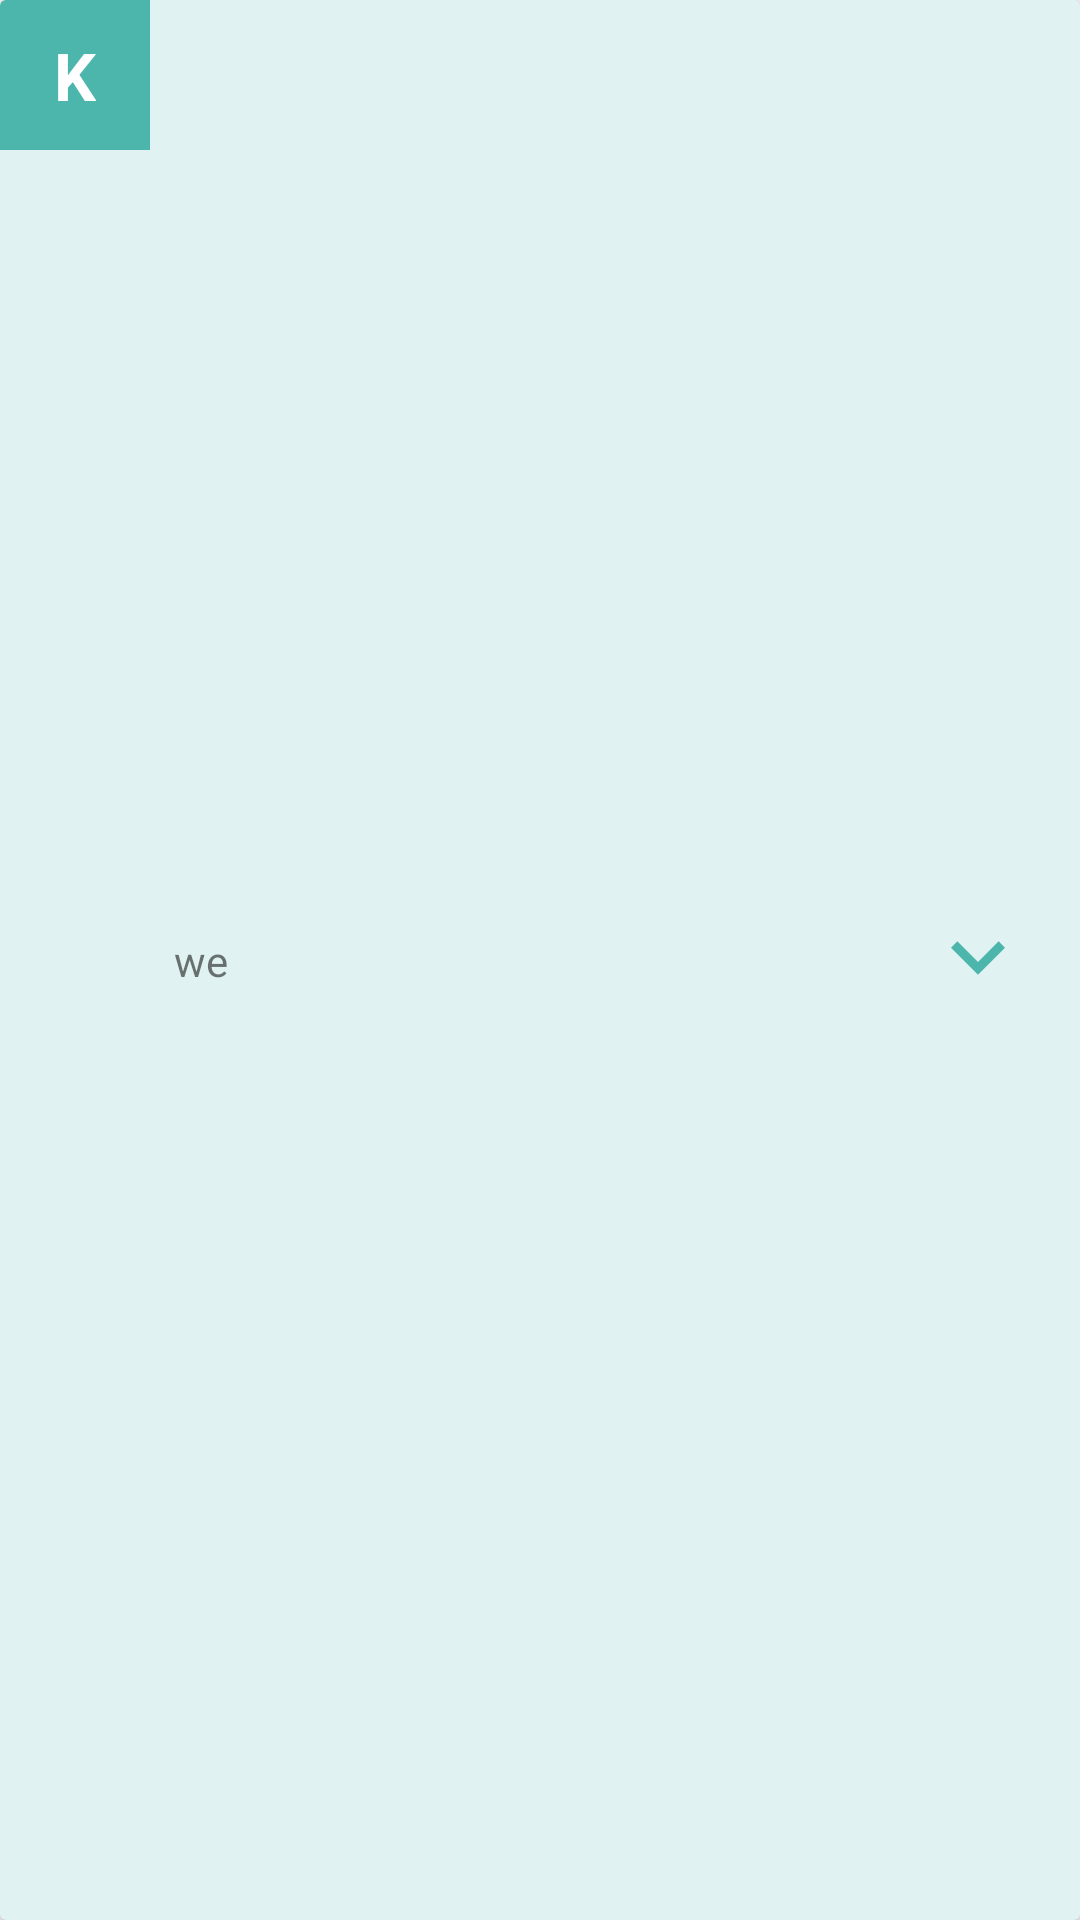

Named icons in this screenshot (1080w x 1920h) and their bounding boxes, (x1, y1, x2, y2):
arrow down: (951, 941, 1005, 975)
